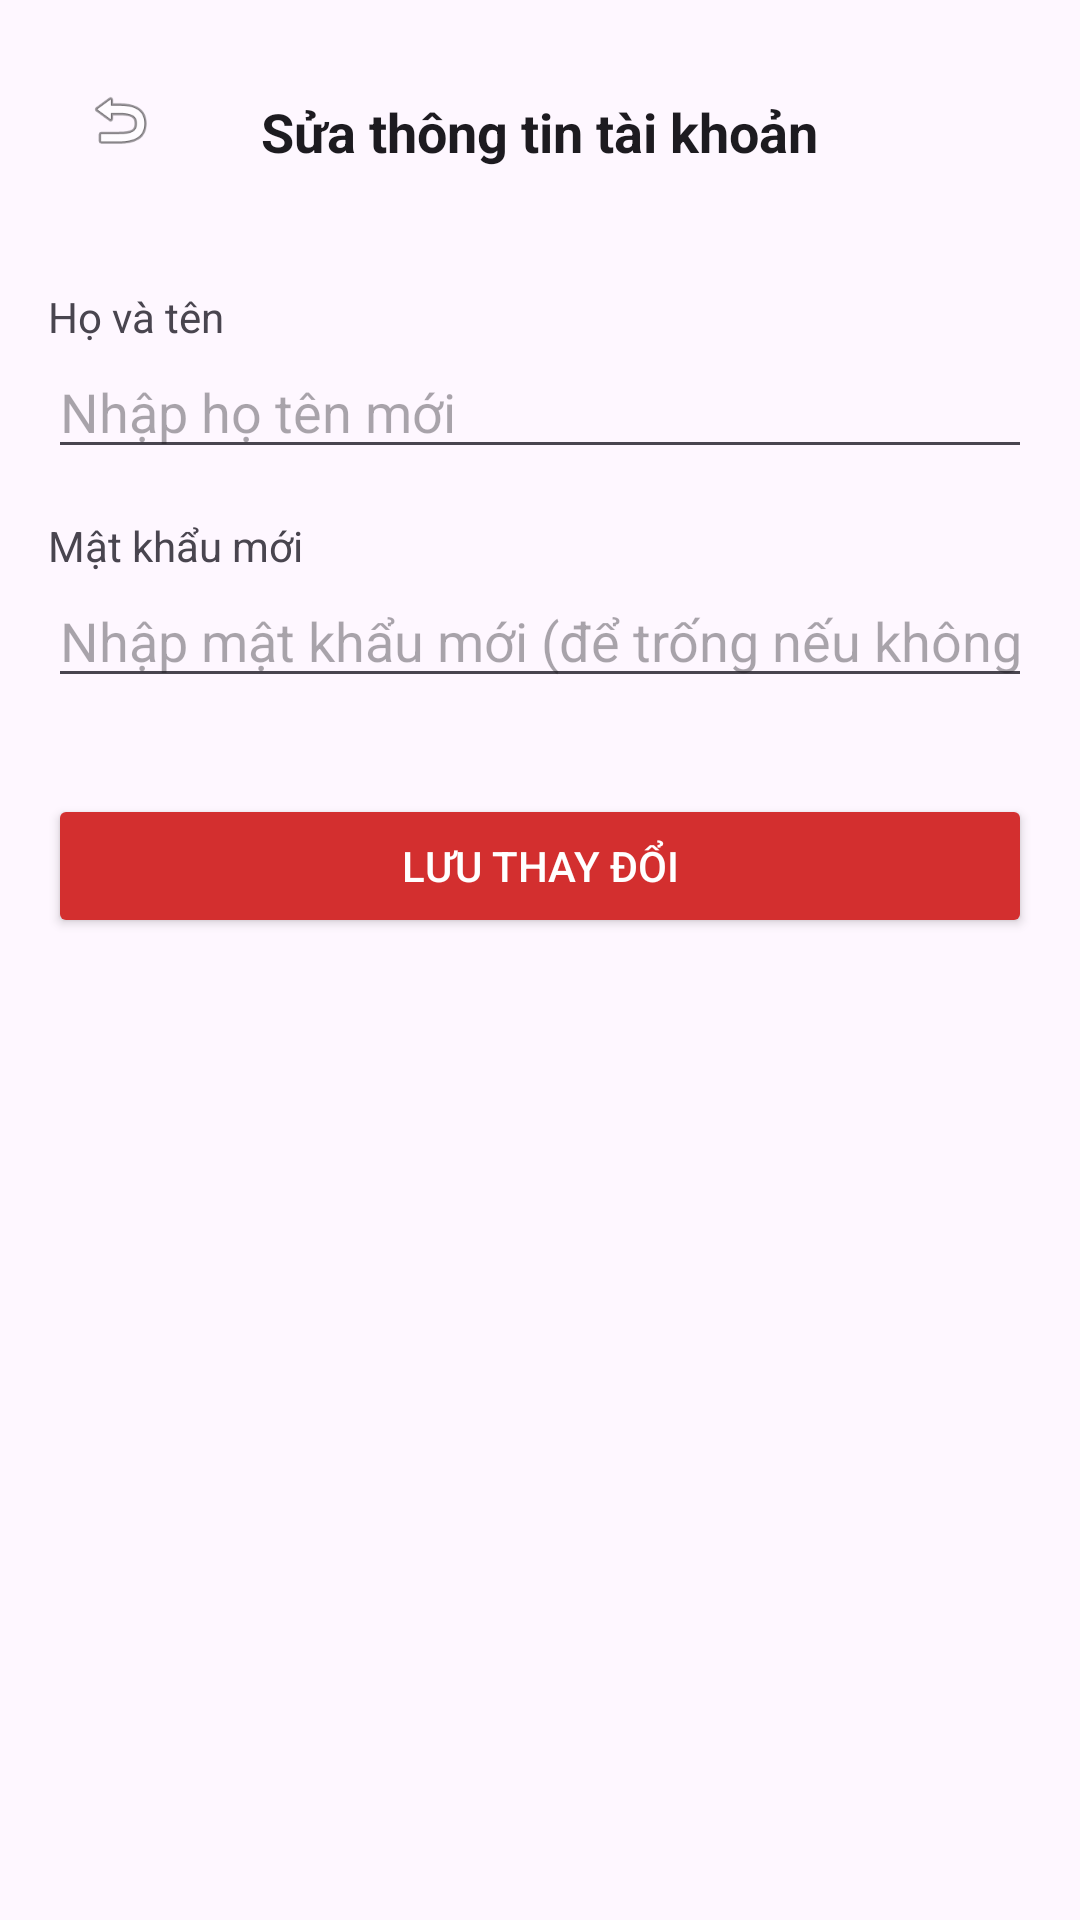

Where to tap for icons on this 1080px x 1920px app screen, as (x=x, y=y):
revert: (x=121, y=120)
